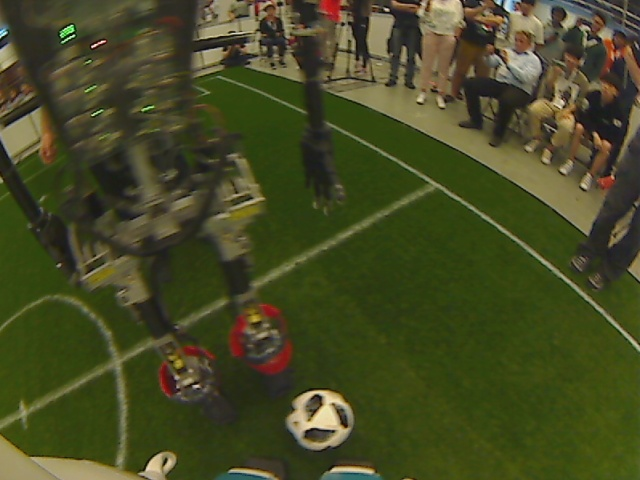ball: (285, 390, 352, 451)
